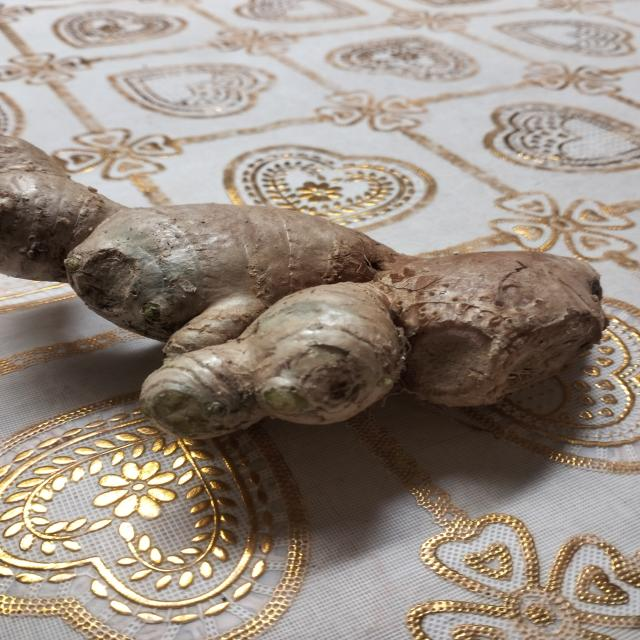ginger: (6, 126, 597, 441)
